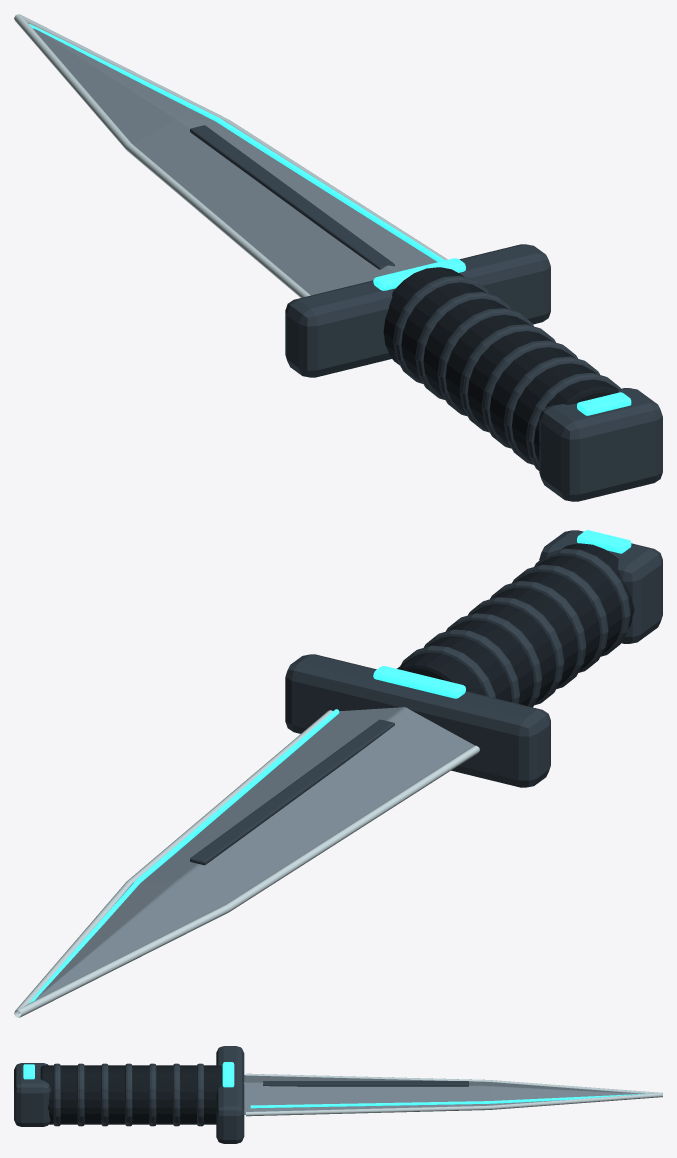
File: dagger.glb
The picture shows the model from 3 angles, top to bottom: view 1: azimuth 30°, elevation 25°; view 2: azimuth 150°, elevation 25°; view 3: azimuth 270°, elevation 25°; orthographic projection. The views are drawn at different scales.
Visible parts, largest first — view 1: double edged blade, rubber grip, low profile guard, pommel, polished cutting edge, blade fuller, phase edge filament, polished cutting edge.001, grip ring.002, grip ring.004, grip ring.005, grip ring.001 (+5 smaller); view 2: double edged blade, low profile guard, rubber grip, polished cutting edge, pommel, blade fuller, phase edge filament, polished cutting edge.001, guard phase insert, grip ring, grip ring.001, grip ring.002 (+5 smaller); view 3: double edged blade, rubber grip, low profile guard, polished cutting edge.001, pommel, phase edge filament, blade fuller, polished cutting edge, grip ring.001, grip ring.003, grip ring.004, grip ring.002 (+5 smaller).
Boxes of the visible parts, <box> form: double edged blade: <box>33,28,437,295</box>; rubber grip: <box>383,267,618,462</box>; low profile guard: <box>285,244,550,377</box>; pommel: <box>539,388,662,501</box>; polished cutting edge: <box>14,14,310,297</box>; blade fuller: <box>190,125,394,269</box>; phase edge filament: <box>29,24,444,261</box>; polished cutting edge.001: <box>18,14,447,260</box>; grip ring.002: <box>481,340,577,448</box>; grip ring.004: <box>437,308,533,416</box>; grip ring.005: <box>415,292,511,400</box>; grip ring.001: <box>504,356,599,464</box>; double edged blade: <box>18,707,479,1013</box>; low profile guard: <box>285,654,550,787</box>; rubber grip: <box>397,543,634,705</box>; polished cutting edge: <box>15,745,479,1017</box>; pommel: <box>539,530,662,643</box>; blade fuller: <box>190,719,394,865</box>; phase edge filament: <box>29,709,339,1003</box>; polished cutting edge.001: <box>14,710,332,1017</box>; guard phase insert: <box>373,666,465,698</box>; grip ring: <box>534,548,630,656</box>; grip ring.001: <box>512,564,608,672</box>; grip ring.002: <box>490,581,586,688</box>; double edged blade: <box>244,1075,643,1114</box>; rubber grip: <box>40,1065,221,1124</box>; low profile guard: <box>216,1046,244,1143</box>; polished cutting edge.001: <box>245,1093,662,1116</box>; pommel: <box>14,1063,50,1126</box>; phase edge filament: <box>250,1093,648,1108</box>; blade fuller: <box>263,1081,468,1086</box>; polished cutting edge: <box>245,1073,662,1093</box>; grip ring.001: <box>77,1063,84,1126</box>; grip ring.003: <box>125,1063,132,1126</box>; grip ring.004: <box>149,1063,156,1126</box>; grip ring.002: <box>101,1063,108,1126</box>.
Bounding box in the file's own units: 0.19 × 0.077 × 0.788.
